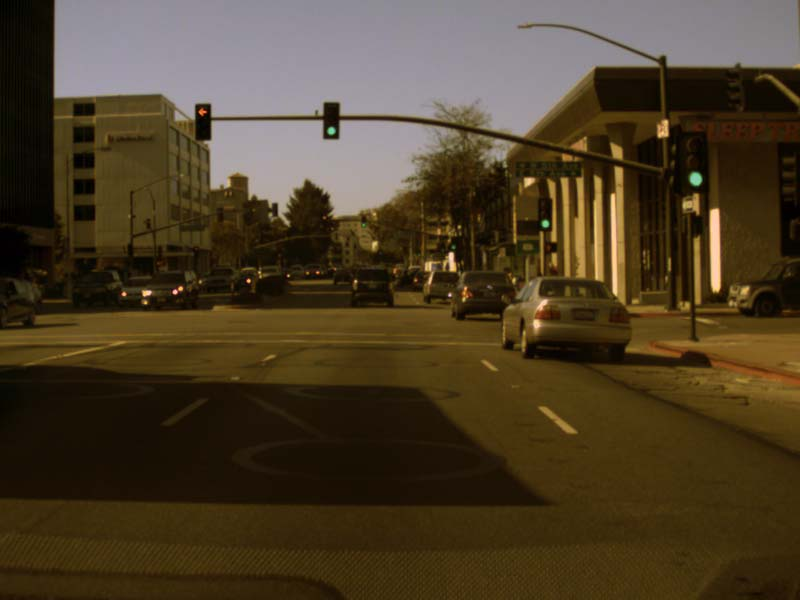Green: (679, 132, 708, 189), (323, 102, 338, 138), (538, 198, 551, 230), (451, 237, 456, 249), (361, 216, 366, 226), (440, 243, 444, 252), (379, 250, 383, 256)
Red: (195, 104, 210, 139), (193, 246, 199, 256)
Yellow: (322, 210, 326, 221)
